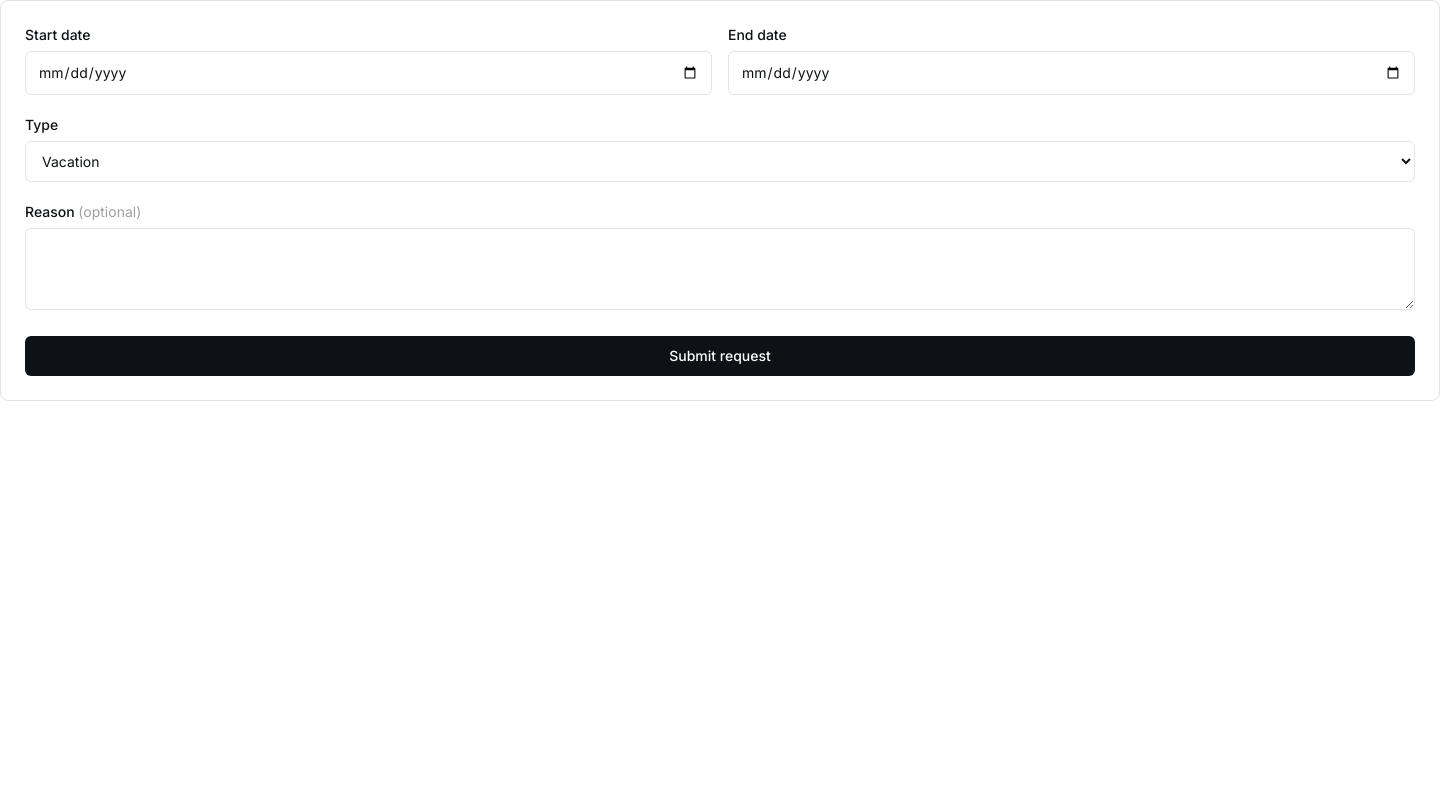
Test: LeaveRequestForm › submits the right payload, confirms with a toast, and clears the form
Type "2026-10-14" into the date field labelled "Start date" at [368, 73], box [25, 51, 712, 95]
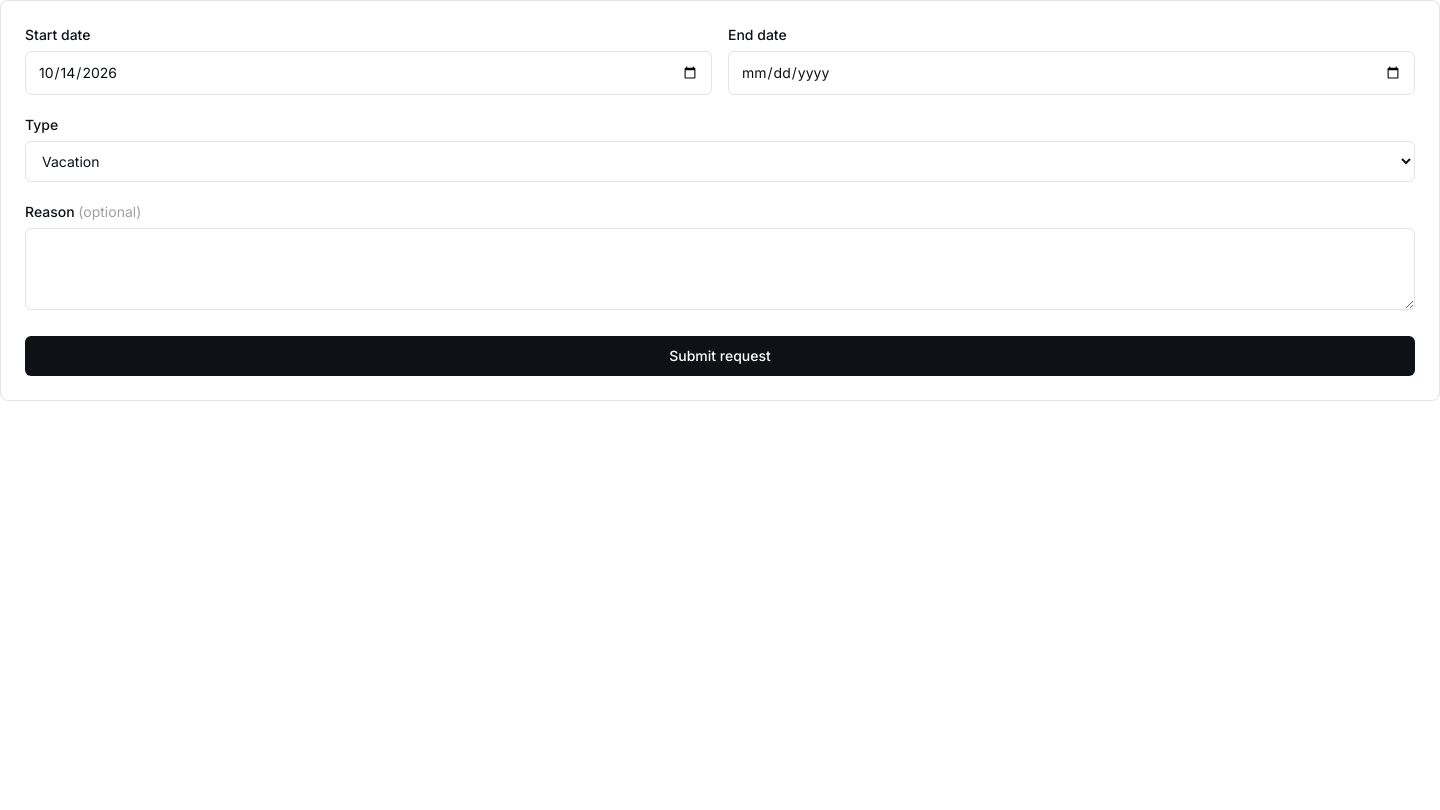
Type "2026-10-14" into the date field labelled "End date" at [1072, 73], box [728, 51, 1415, 95]
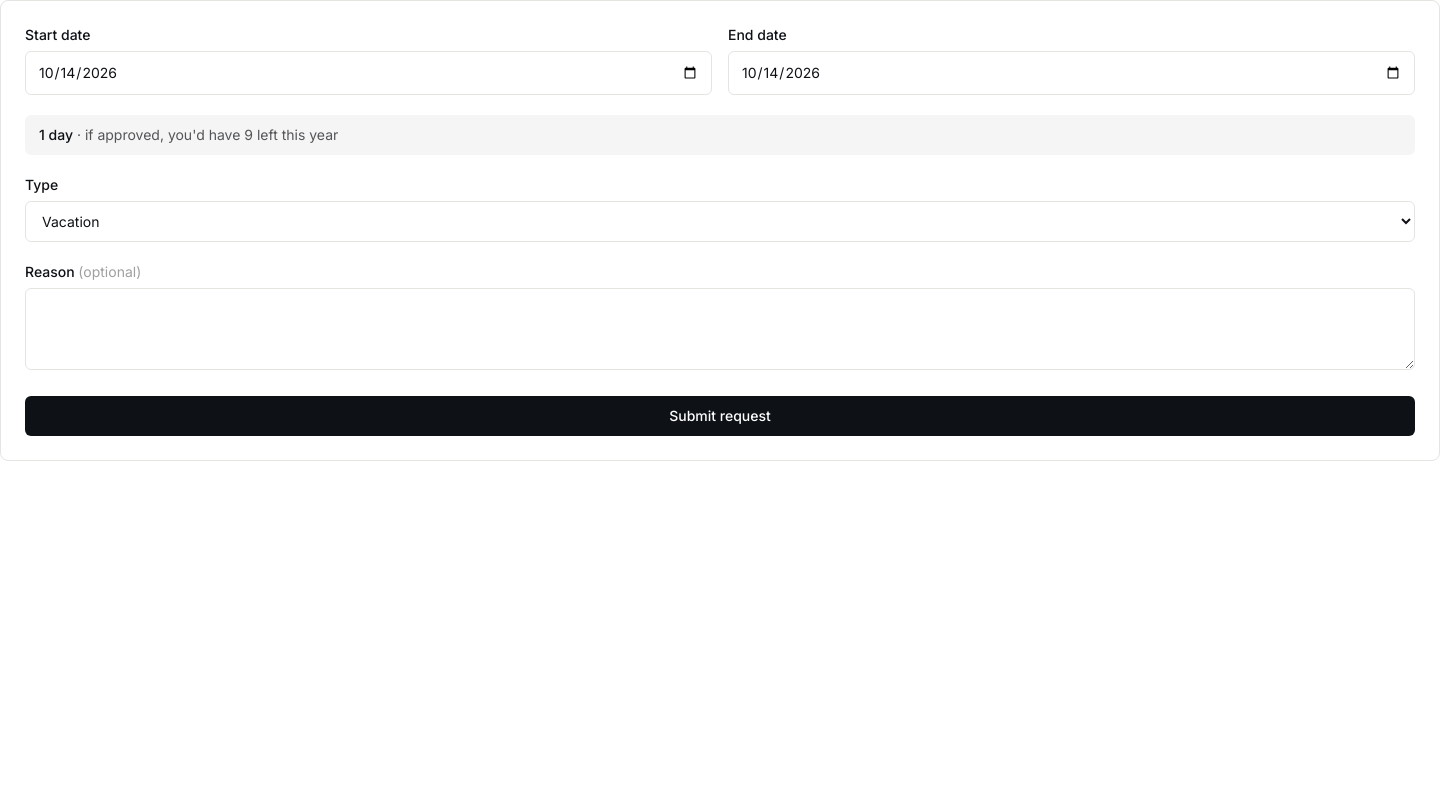
Type "Family trip" into the text box labelled "Reason (optional)" at [720, 329], box [25, 288, 1415, 370]
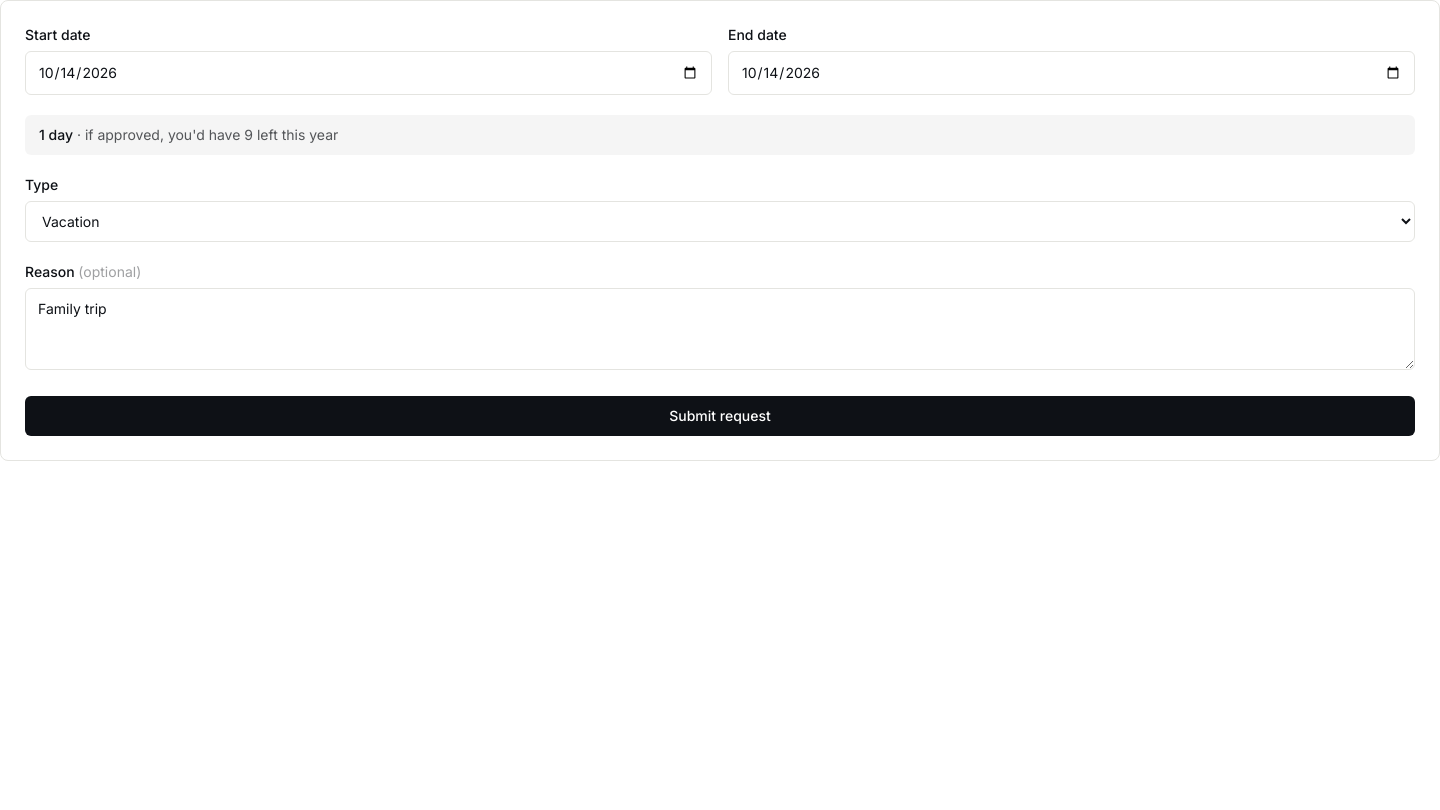
Click the button "Submit request" at [720, 416], box [25, 396, 1415, 436]
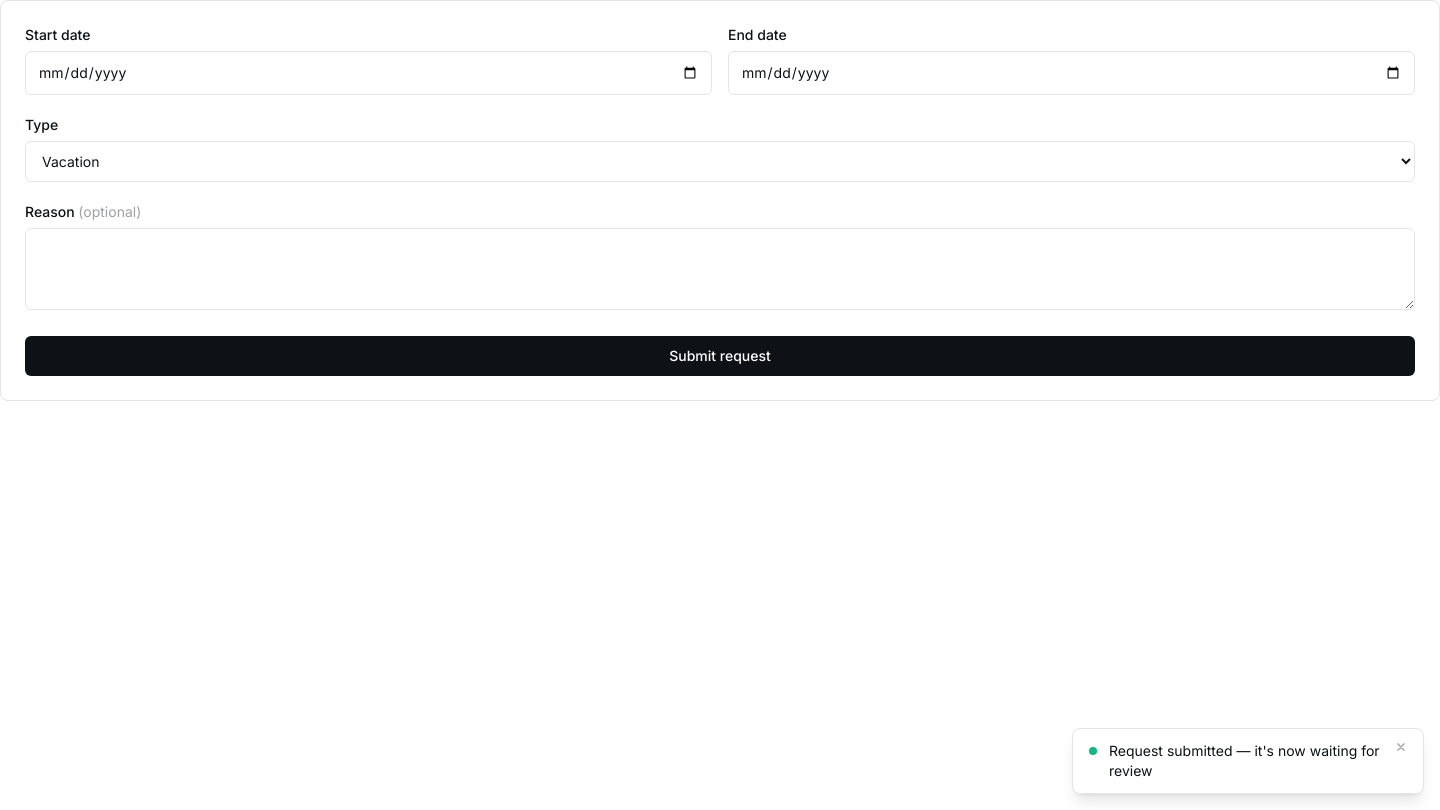
Check: the text "Request submitted — it's now waiting for review" is shown, box [1109, 741, 1383, 781]
Check: the date field labelled "Start date" is empty, box [25, 51, 712, 95]
Check: the text box labelled "Reason (optional)" is empty, box [25, 228, 1415, 310]
